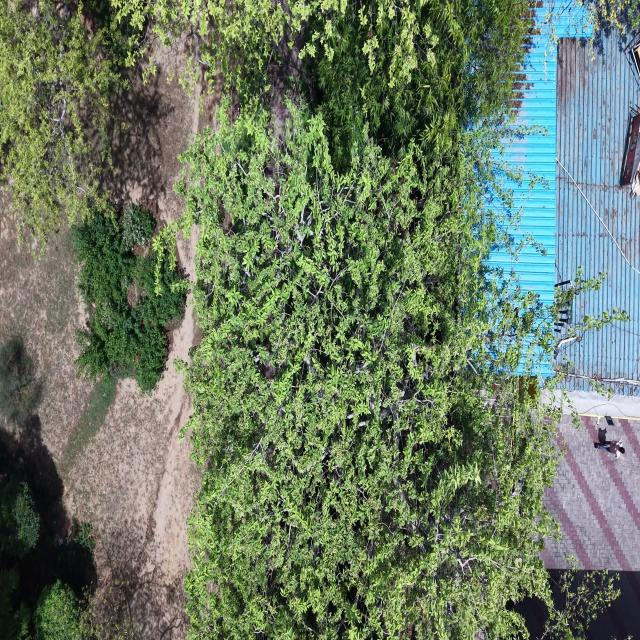DRY_AREA: (0, 200, 200, 639), (0, 216, 200, 638), (68, 299, 199, 637), (66, 306, 199, 638), (0, 216, 104, 546), (0, 217, 92, 461), (541, 415, 639, 638), (104, 41, 217, 219), (542, 416, 639, 572)
ROOFTOP_BUILDING: (491, 0, 639, 637), (541, 30, 639, 637), (491, 0, 639, 393), (490, 0, 590, 305), (556, 30, 639, 393)
VEGETATION_TREE: (0, 0, 615, 639), (178, 2, 615, 639), (178, 103, 558, 639), (180, 105, 556, 638), (0, 0, 527, 245), (0, 0, 184, 391), (111, 0, 530, 159), (109, 0, 534, 103), (306, 0, 531, 164), (0, 0, 119, 247), (0, 338, 94, 639), (0, 451, 136, 639), (0, 479, 135, 639), (73, 206, 185, 393), (111, 0, 343, 86), (0, 566, 138, 639), (33, 580, 139, 639), (540, 568, 616, 639), (0, 336, 38, 425), (78, 590, 143, 639), (0, 478, 39, 559), (0, 478, 39, 557), (578, 0, 639, 45), (34, 580, 80, 639), (0, 568, 30, 639), (119, 205, 155, 250)
